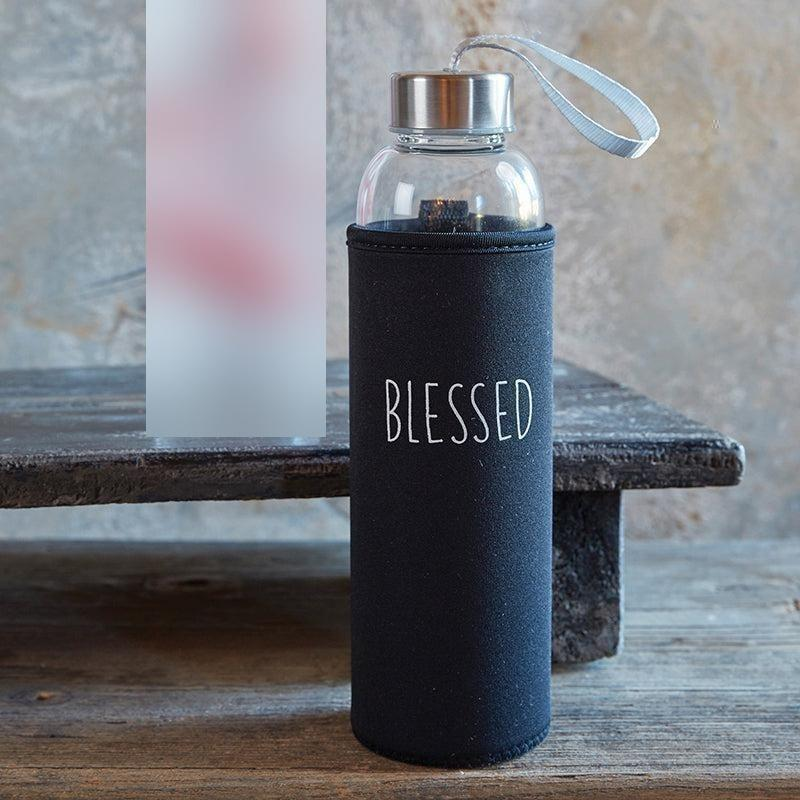gym bottle: (341, 34, 660, 781)
